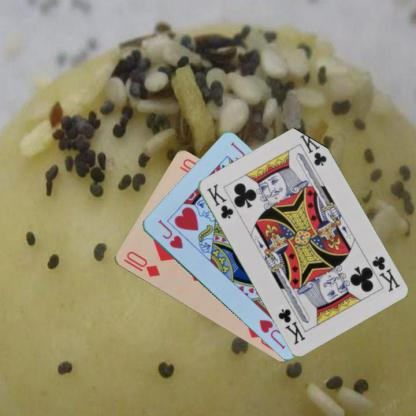10d: (120, 249, 161, 278)
Jh: (155, 217, 184, 250)
Kc: (369, 253, 401, 294), (204, 181, 235, 220)
